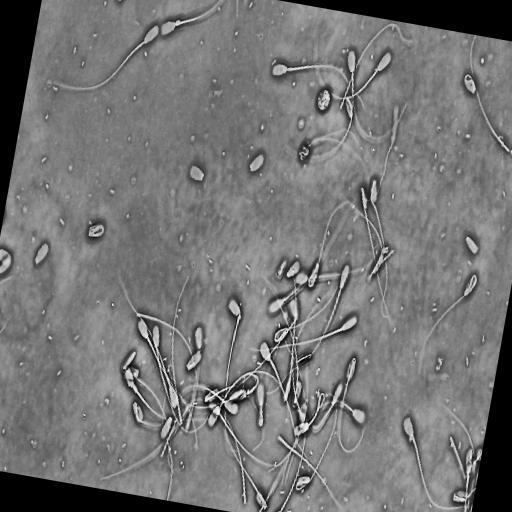coiled-tail: (420, 274, 476, 366), (307, 200, 359, 287), (295, 394, 336, 490), (292, 390, 325, 436), (273, 324, 289, 343), (464, 74, 475, 91), (309, 269, 316, 283), (88, 226, 98, 234), (297, 482, 306, 488), (466, 77, 471, 80)
dirt-particles: (315, 85, 332, 115), (296, 139, 310, 164)
folded-tail: (309, 96, 352, 158), (370, 179, 387, 317), (338, 359, 363, 451), (224, 311, 241, 428)
loose-head: (247, 151, 264, 176), (33, 240, 49, 266), (185, 348, 202, 372), (159, 414, 173, 441), (188, 163, 205, 183), (464, 233, 478, 256), (285, 260, 301, 280)
loose-tail: (336, 20, 412, 113), (274, 430, 345, 512), (467, 34, 512, 157), (133, 310, 200, 392), (170, 271, 189, 429), (219, 403, 247, 508)
normal: (263, 260, 351, 396), (28, 22, 159, 93), (137, 318, 197, 435), (400, 413, 471, 510), (257, 338, 310, 466), (417, 271, 479, 374), (346, 48, 407, 142), (312, 30, 393, 100), (305, 199, 360, 291), (358, 183, 392, 326), (248, 312, 358, 353), (293, 391, 337, 493), (269, 61, 364, 108), (221, 424, 266, 510), (305, 93, 354, 162), (369, 175, 391, 321), (206, 370, 259, 428), (337, 356, 366, 454), (223, 296, 242, 439), (159, 0, 224, 38), (131, 400, 177, 430), (254, 381, 265, 428), (86, 219, 105, 239), (462, 72, 476, 95)
